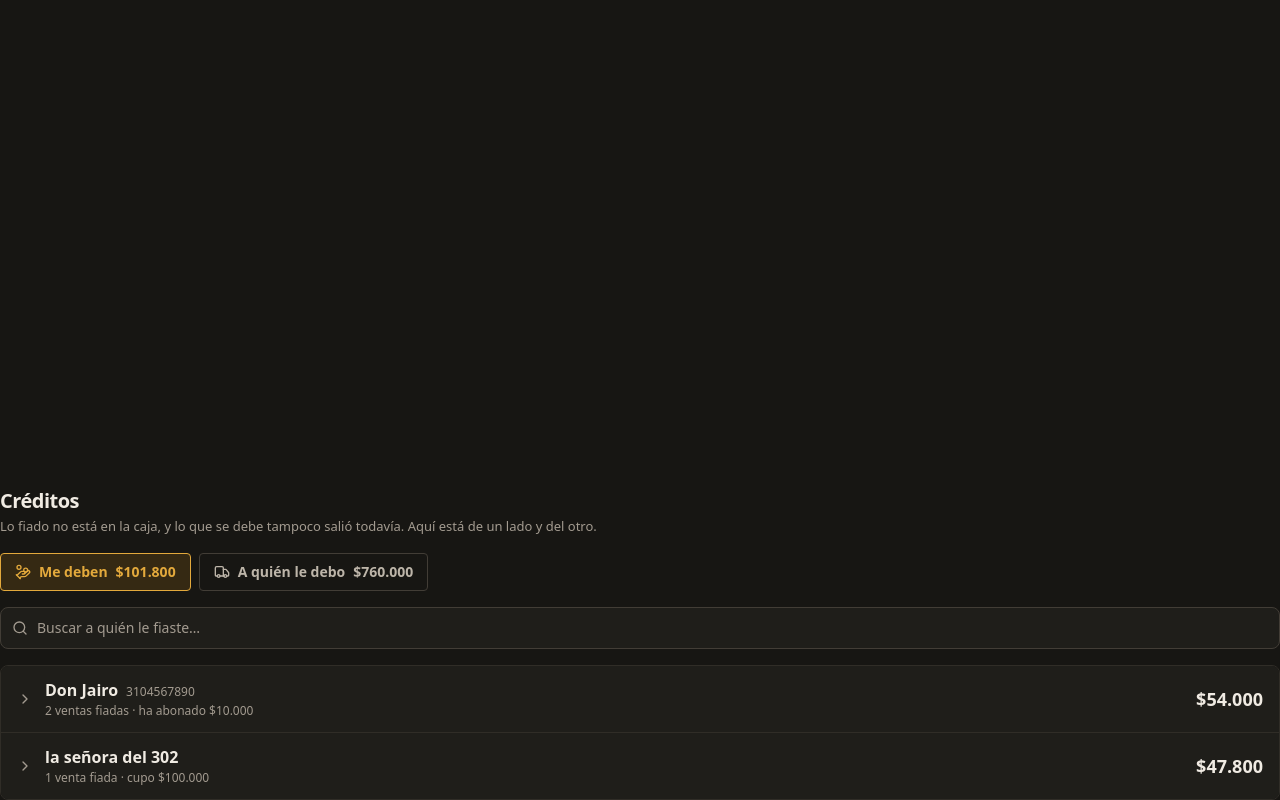
Test case: recibir un abono › dice de qué venta es y cuánto se debe
This screenshot has width=1280, height=800.
(page scrolled)
Step 1. Click the text "Don Jairo" → {"x": 82, "y": 690}, box [45,678,118,700]
(page scrolled)
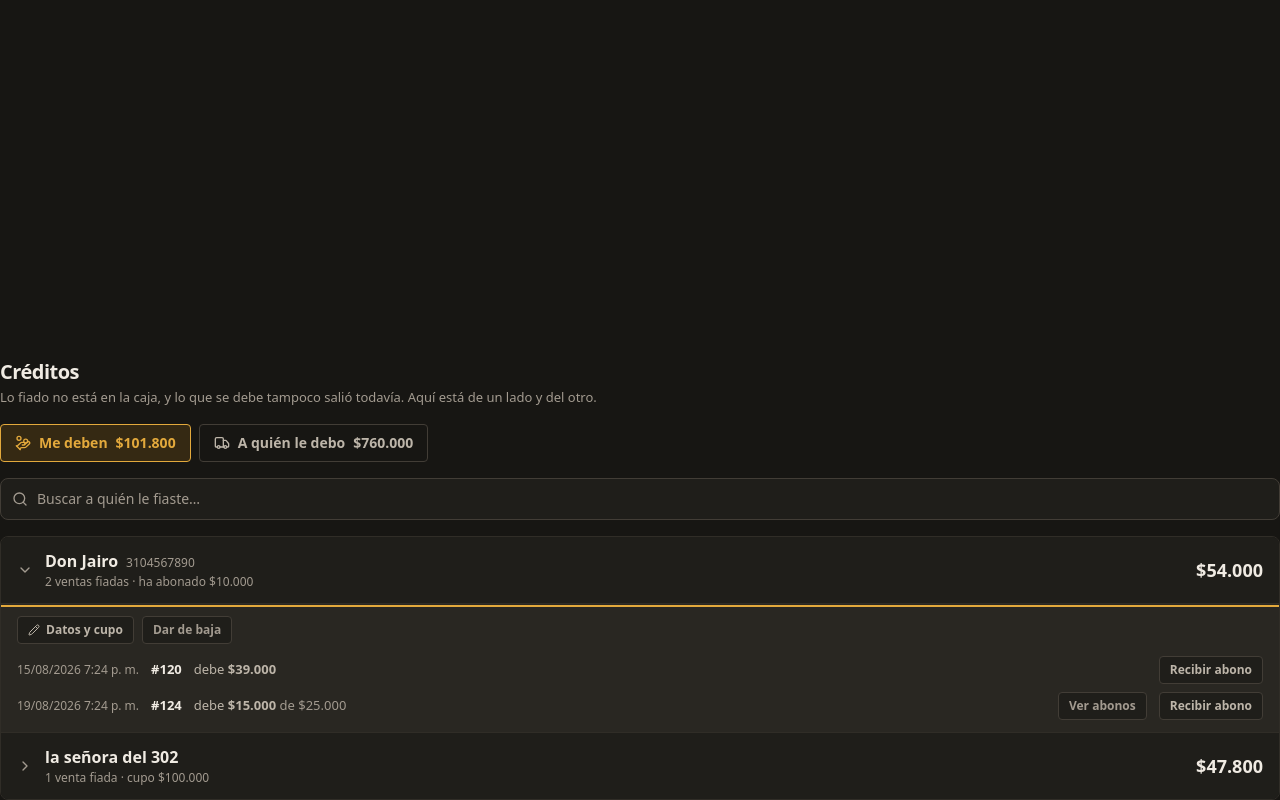
Step 2. Click the button "Recibir abono" in the row of "15/08/2026 7:24 p. m." → {"x": 1211, "y": 670}, box [1159,656,1263,684]
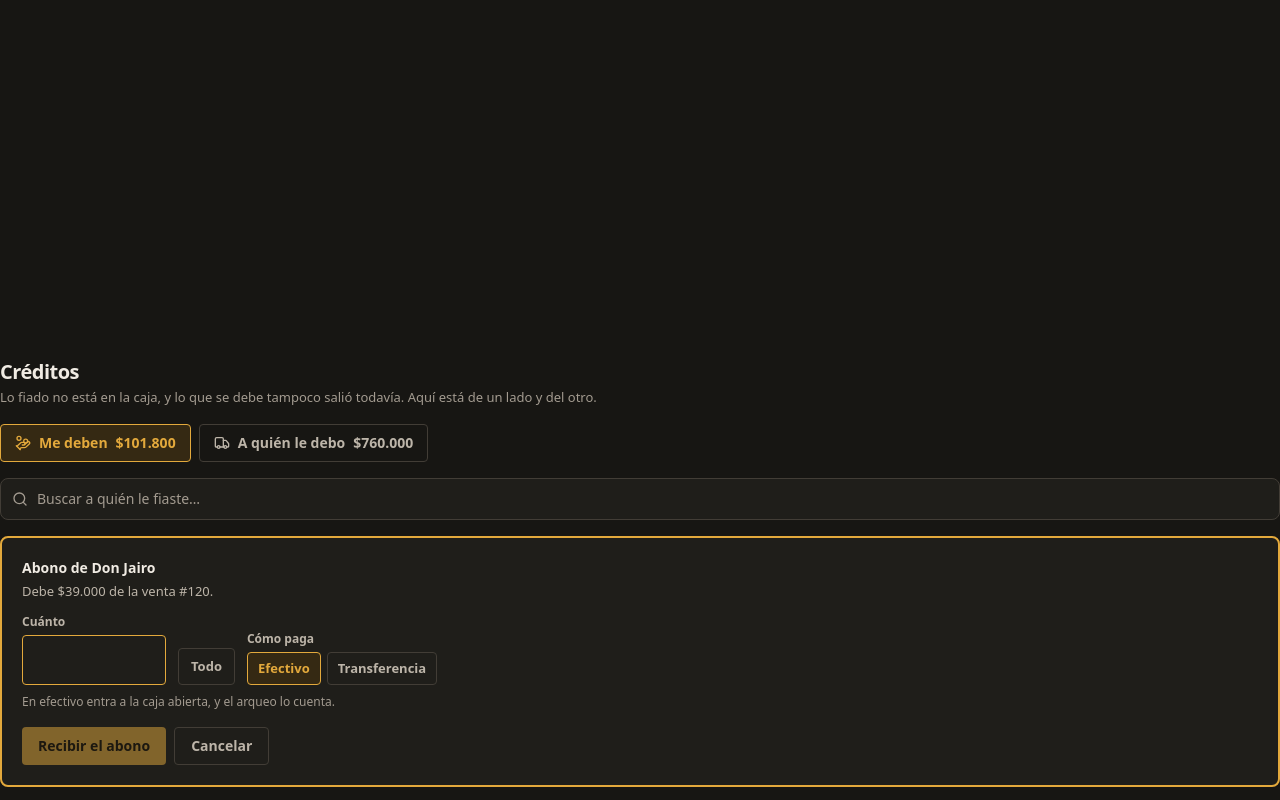
Now the heading "Abono de Don Jairo" is shown, box [22,558,155,576]
Now the text "Debe $39.000 de la venta #120." is shown, box [22,582,213,600]
